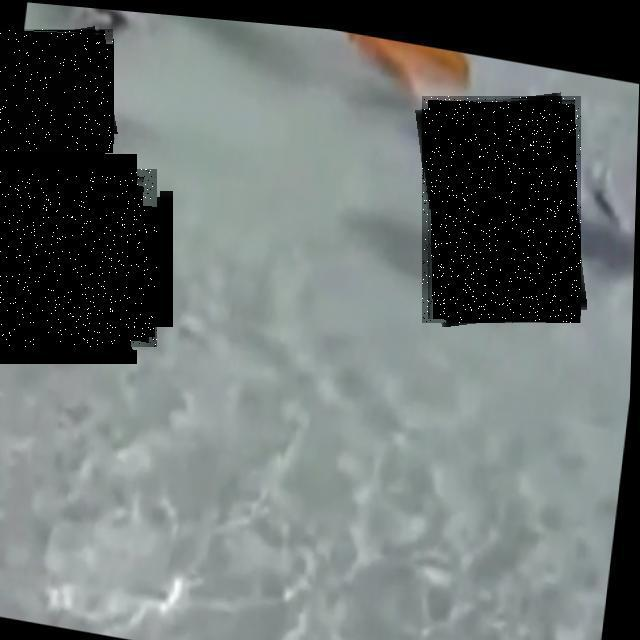swimming: (422, 96, 581, 323), (0, 169, 157, 347), (0, 29, 113, 153)
